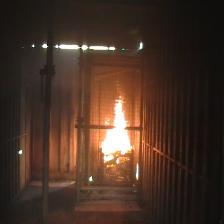fire: (101, 94, 134, 162)
